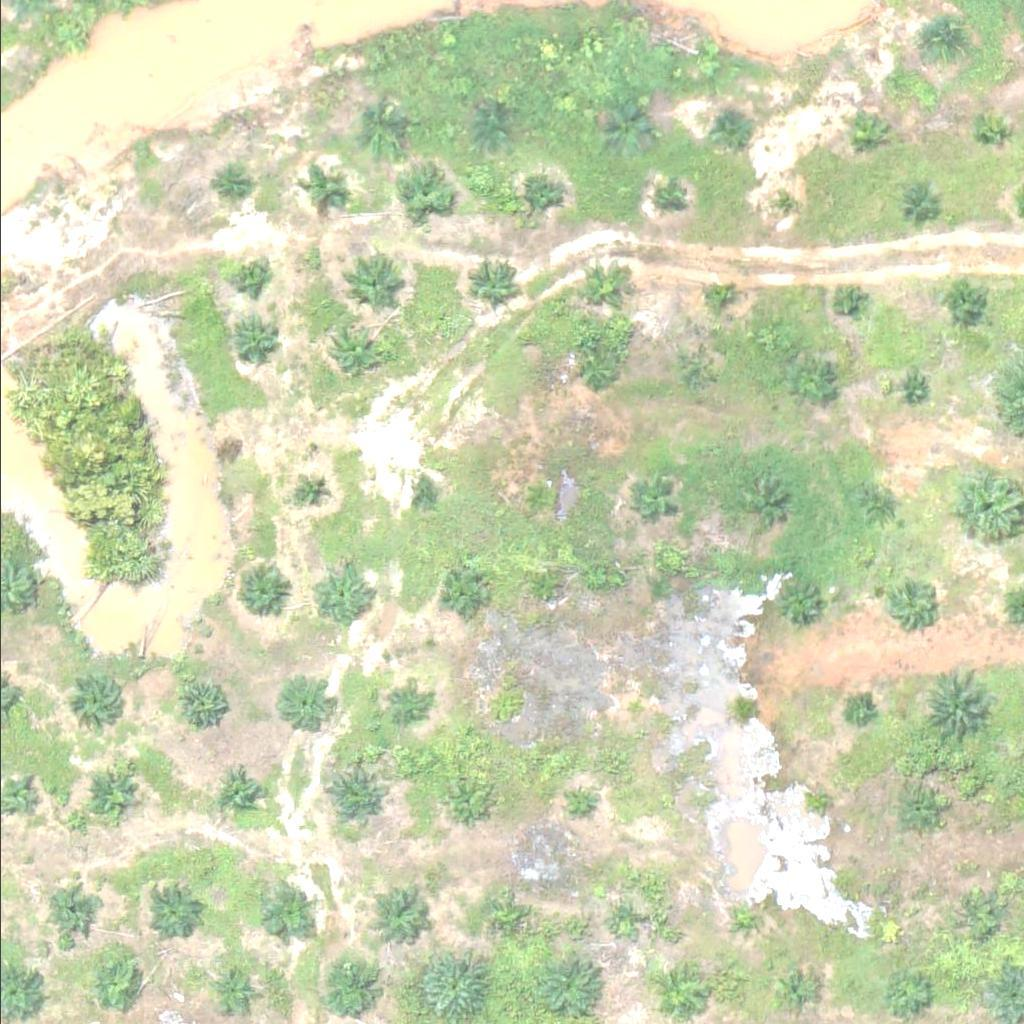Kelapa_Sawit: (530, 947, 606, 1022), (918, 668, 994, 743), (370, 880, 433, 943), (324, 765, 387, 828), (323, 319, 386, 382), (227, 559, 290, 621), (85, 763, 148, 825), (309, 563, 372, 625), (341, 253, 404, 315), (570, 349, 621, 399), (277, 679, 328, 729), (176, 676, 227, 726), (212, 767, 263, 817), (440, 569, 491, 619), (956, 894, 1007, 944), (883, 970, 934, 1020), (576, 262, 627, 312), (837, 108, 888, 158), (52, 888, 102, 938), (258, 891, 308, 941), (148, 887, 198, 937), (92, 954, 142, 1004), (74, 673, 124, 723), (650, 969, 700, 1019), (890, 788, 940, 838), (767, 965, 817, 1015), (506, 170, 556, 220), (397, 168, 447, 218), (464, 257, 514, 307), (228, 317, 278, 367), (884, 577, 934, 627), (770, 580, 820, 630), (631, 477, 681, 527), (738, 477, 788, 527), (852, 484, 902, 534), (782, 357, 832, 407), (942, 276, 992, 326), (598, 104, 648, 154), (347, 106, 397, 156), (214, 969, 252, 1007), (384, 682, 422, 720), (304, 167, 342, 205), (213, 168, 251, 206), (230, 255, 268, 293), (709, 108, 747, 146), (441, 787, 479, 824), (293, 474, 331, 511), (518, 478, 555, 516), (673, 352, 710, 390), (966, 111, 1003, 149), (471, 108, 509, 145), (523, 571, 561, 608), (894, 187, 931, 224), (922, 19, 959, 56), (845, 697, 871, 722), (489, 909, 515, 934), (735, 902, 760, 927), (607, 907, 632, 932), (564, 790, 589, 815), (808, 790, 833, 815), (409, 480, 434, 505), (836, 288, 861, 313), (706, 281, 731, 306), (767, 193, 792, 218), (655, 187, 680, 212), (619, 696, 644, 721), (900, 376, 925, 400)
